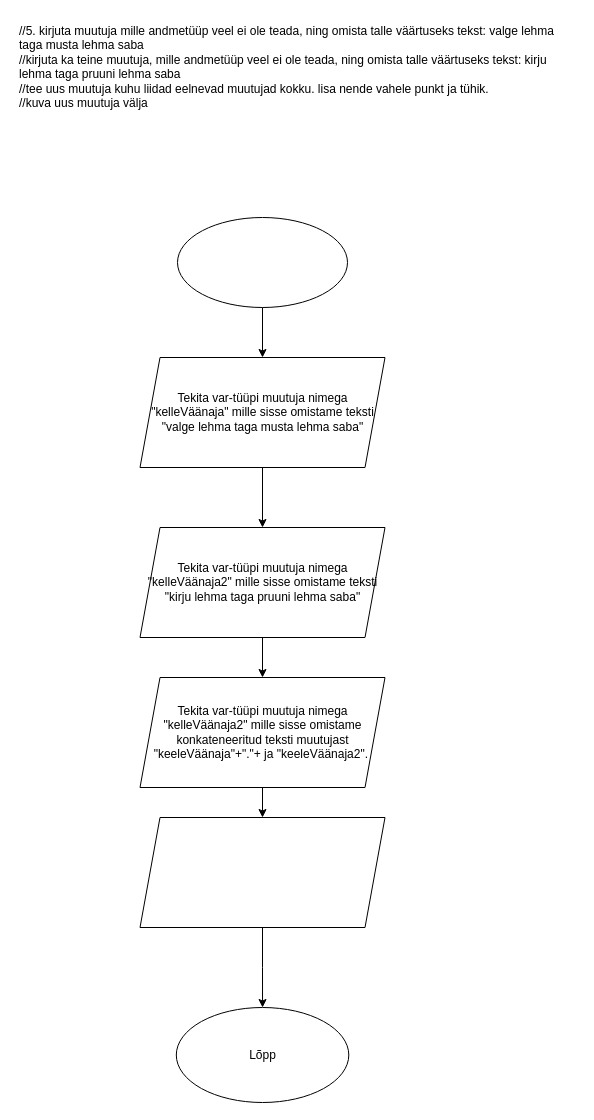
This 594x1120 diagram has some shape labels left out. Each missing label, with the centre of its shape:
Algus: point (262, 262)
Kuva kasutajale muutuja "keeleVäänaja3" välja.: point (262, 872)
